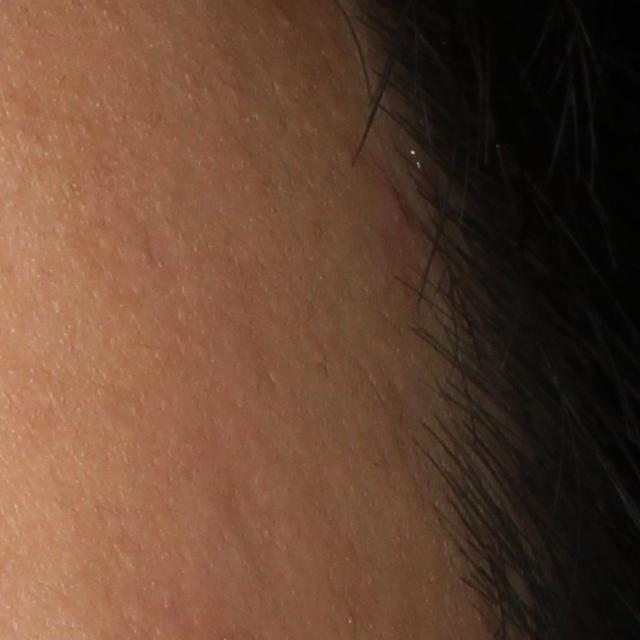papule: (386, 189, 410, 234)
